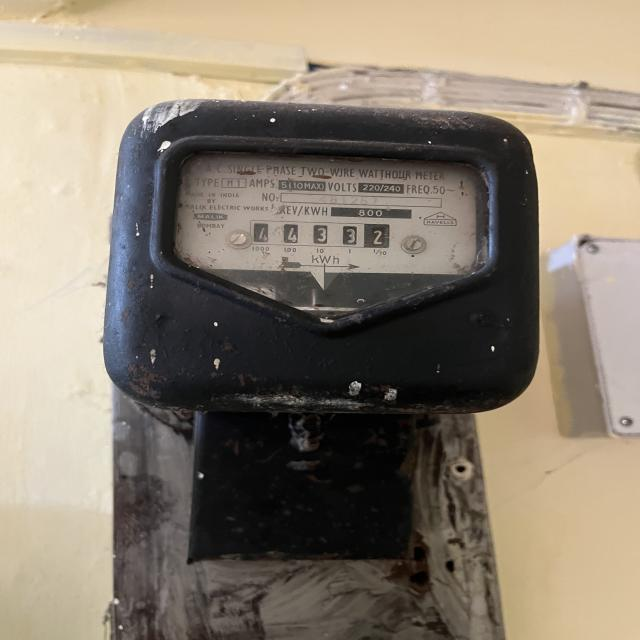display: (248, 217, 402, 254)
